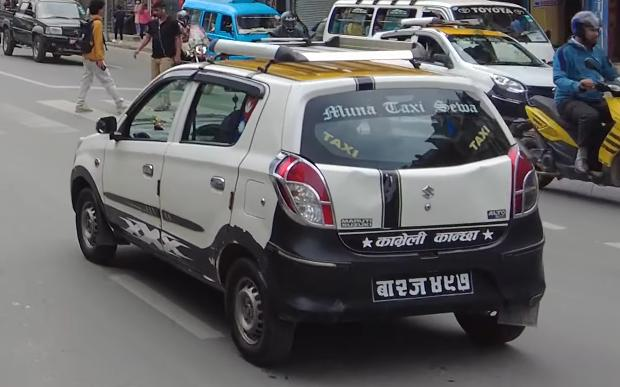bike: (174, 26, 224, 71)
scooter: (518, 60, 620, 194)
taxi: (48, 32, 552, 376), (370, 13, 564, 135)
